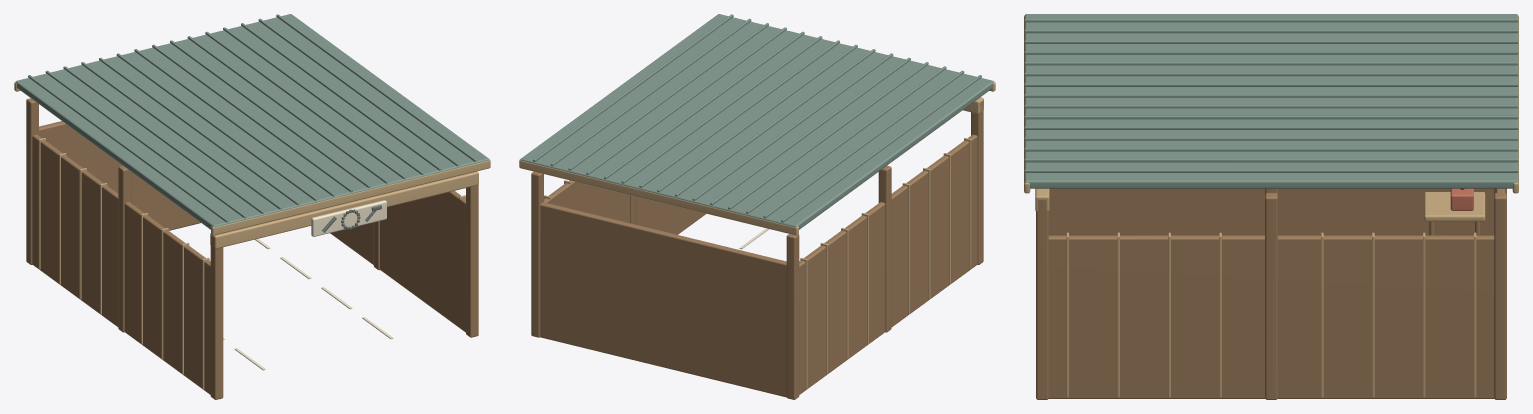
Rendered from garage.glb.
3 views of the same model, side by side, from view 1: azimuth 30°, elevation 25°; view 2: azimuth 150°, elevation 25°; view 3: azimuth 270°, elevation 25° (orthographic). The views are drawn at different scales.
Parts seen in each view (by area): view 1: Garage; view 2: Garage; view 3: Garage.
Part boxes in pixels (x1,y1,x2,y2): Garage: [14, 14, 490, 399]; Garage: [519, 14, 995, 399]; Garage: [1024, 14, 1518, 399].
Bounding box in the file's own units: 7.85 × 4.9 × 9.72.
